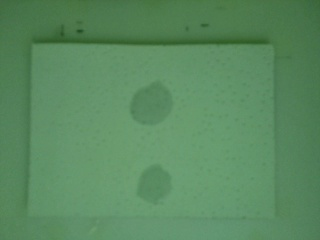Water_detected: (131, 85, 164, 116), (148, 172, 170, 194)
